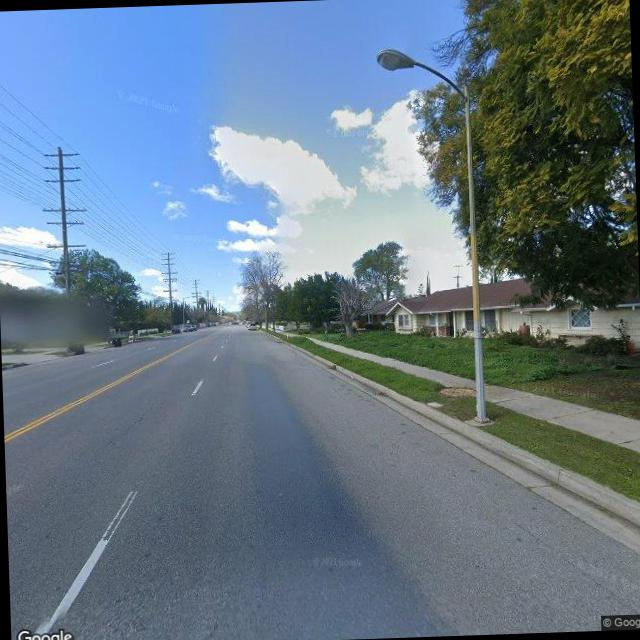crack: (104, 396, 160, 450)
